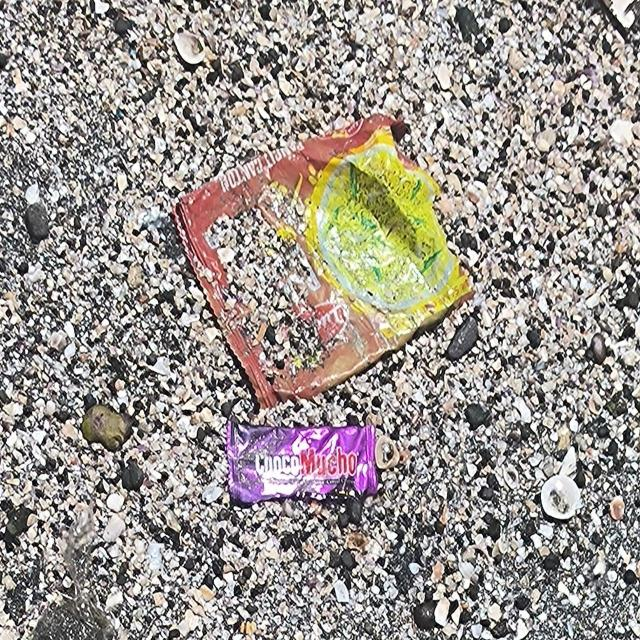plastic_waste: (170, 115, 474, 414), (226, 422, 381, 506)
